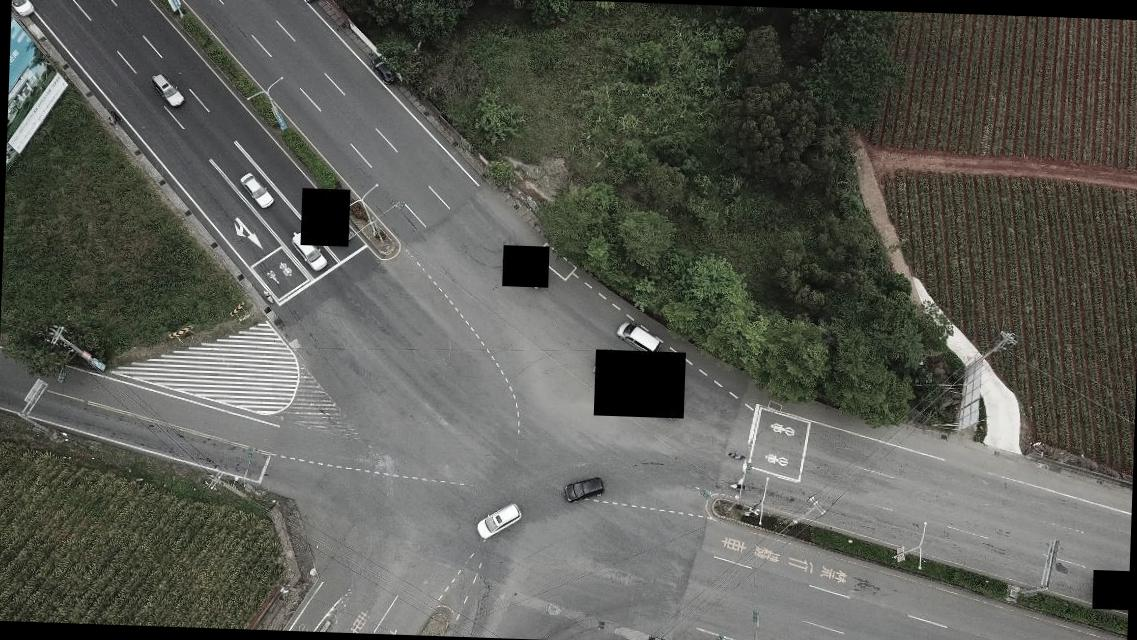vehicle: (615, 318, 662, 358), (476, 501, 522, 538), (290, 232, 328, 272), (238, 170, 275, 208), (564, 477, 604, 504), (152, 72, 182, 105), (368, 56, 395, 85), (11, 0, 37, 19), (296, 0, 319, 4)
